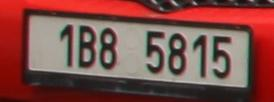1: (193, 35, 206, 78), (61, 24, 73, 67)
5: (146, 30, 164, 74), (213, 36, 231, 77)
8: (169, 32, 187, 75), (101, 27, 117, 69)
B: (79, 25, 96, 68)
